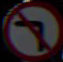Don't turn left: (11, 8, 53, 51)
